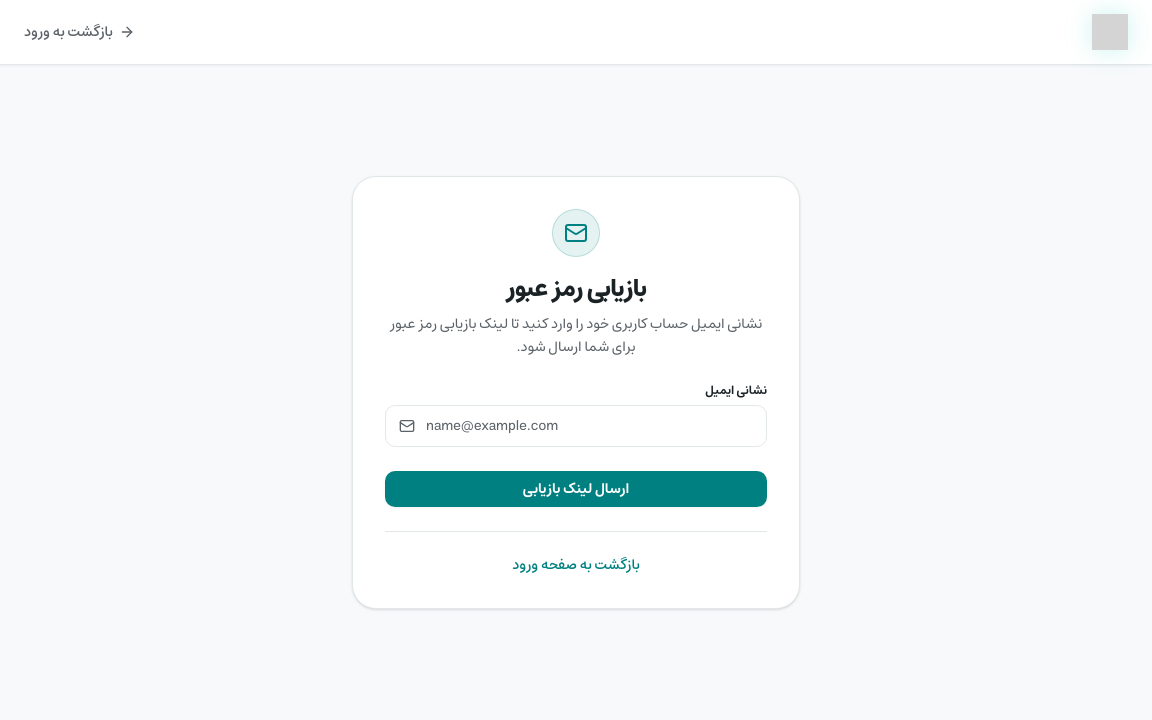
Scenario: Auth UI - Forgot Password & Reset Password Flow › ForgotPasswordPage › displays error message if the API returns an error
Type "student@example.com" into the field with id "forgot-email" at (576, 426), box [385,405,767,447]
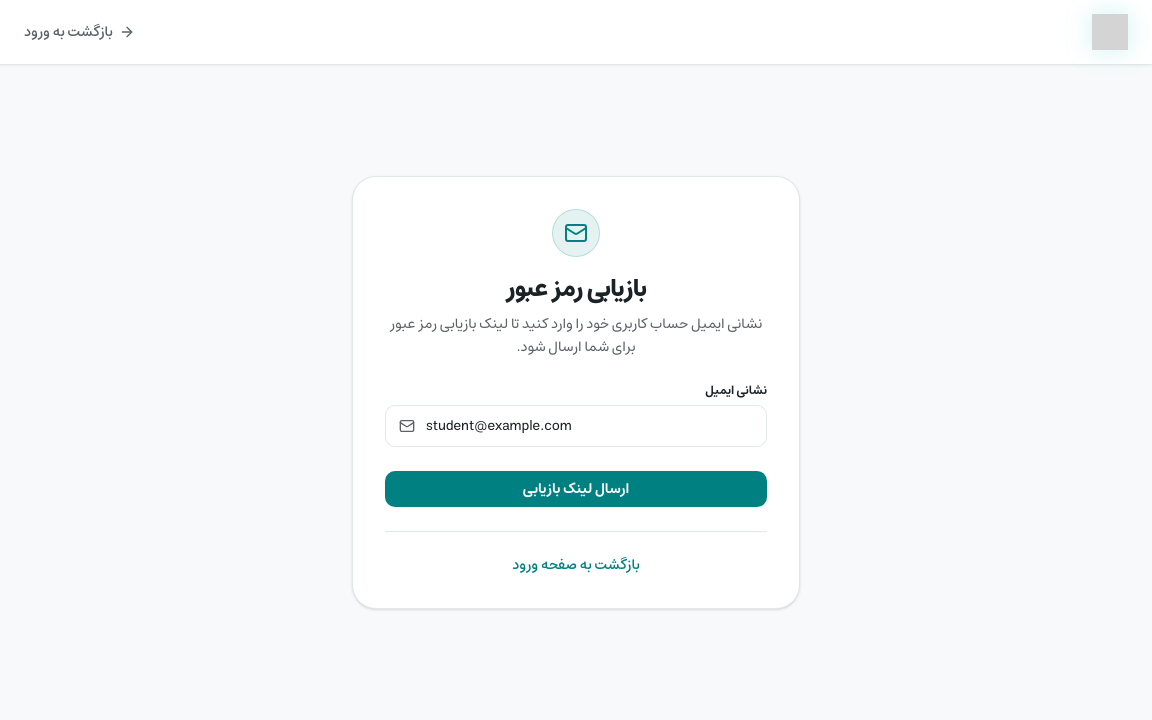
Submit the form, box [385,383,767,507]
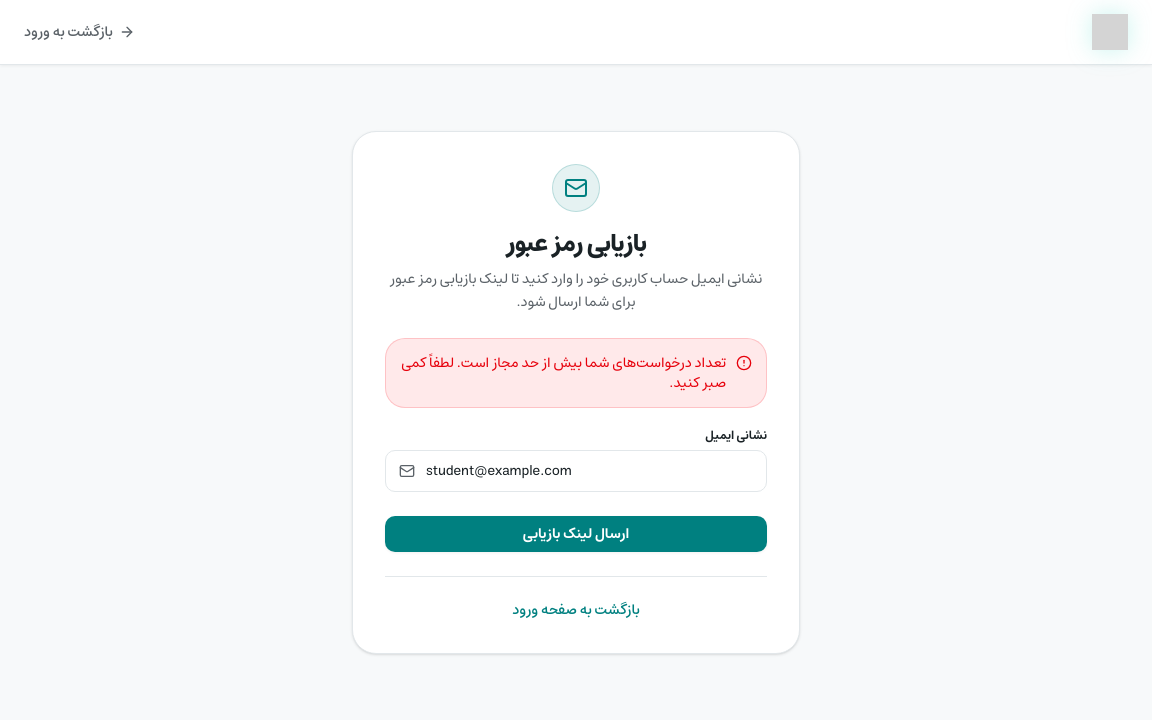
Now the text "تعداد درخواست‌های شما بیش از حد مجاز است. لطفاً کمی صبر کنید." is shown, box [400,353,726,393]
